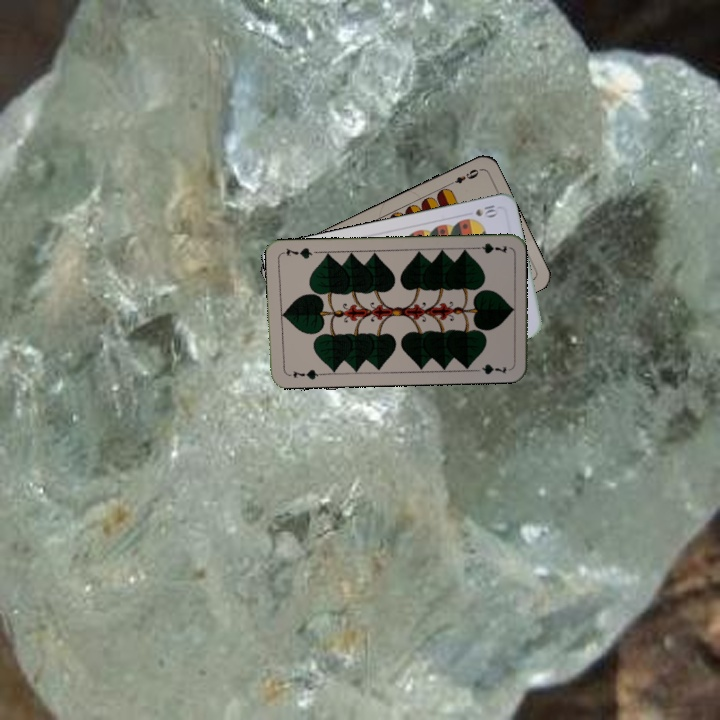E9: (445, 165, 483, 188)
G7: (469, 239, 509, 256), (284, 366, 324, 382)
S10: (471, 201, 500, 220)
